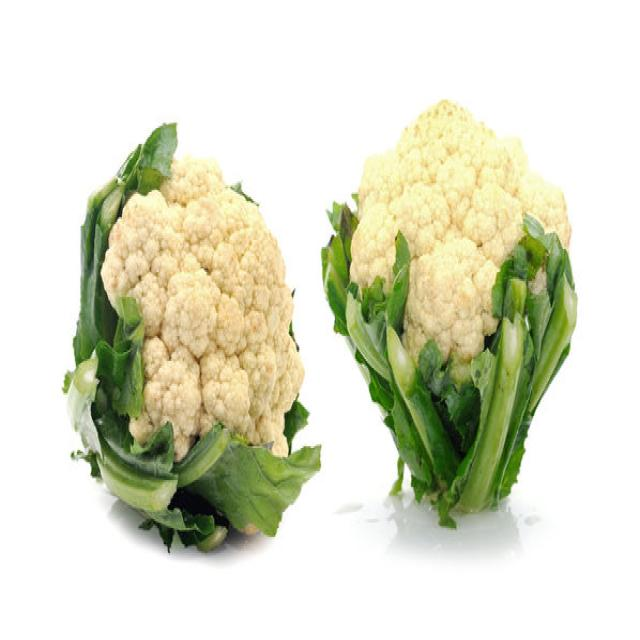Cauliflower: (63, 119, 321, 553), (328, 94, 586, 526)
